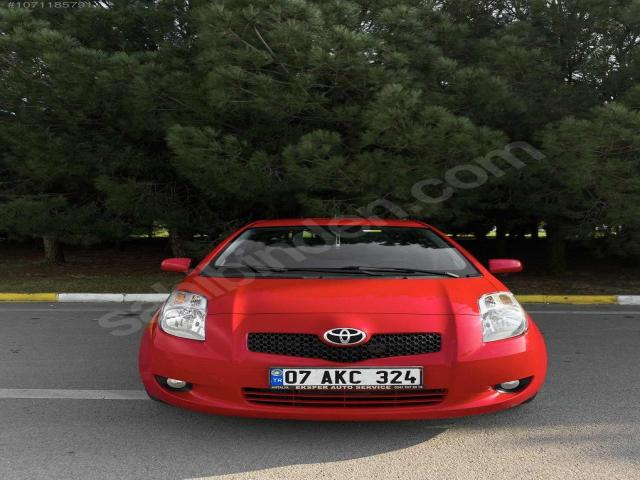plaka: (270, 367, 423, 388)
